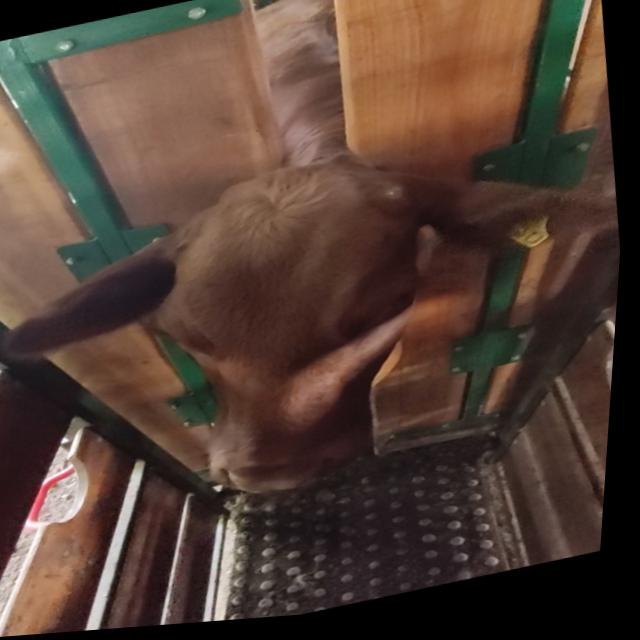cowFace: (125, 149, 460, 521)
